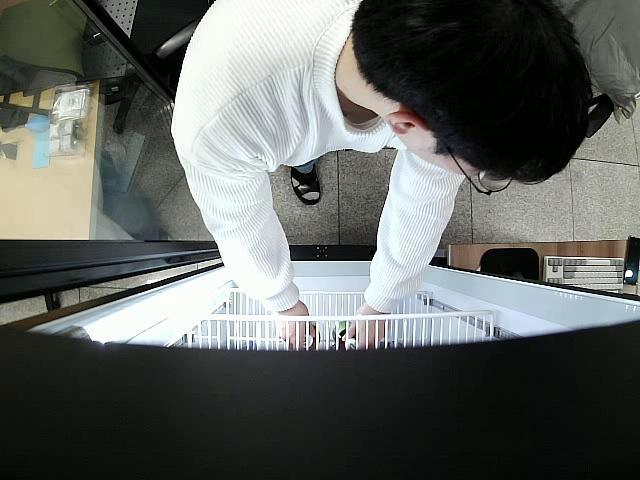19_17cha: (332, 319, 356, 350), (303, 322, 321, 349)
